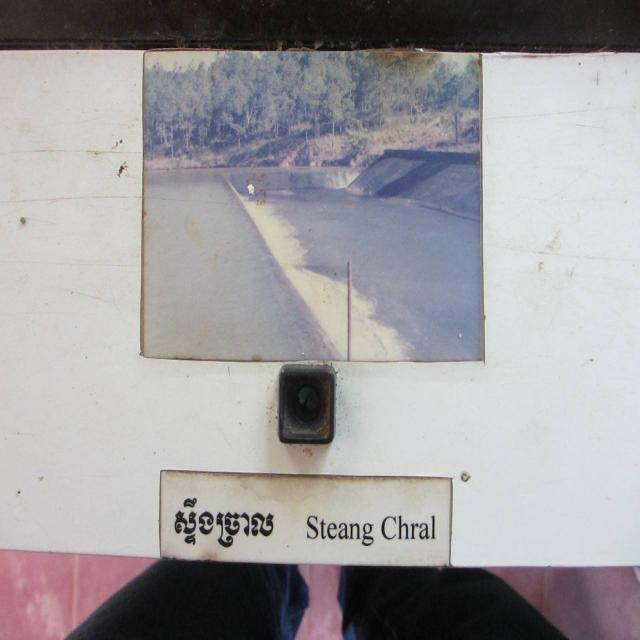Yolov11kh: (170, 493, 282, 554)
